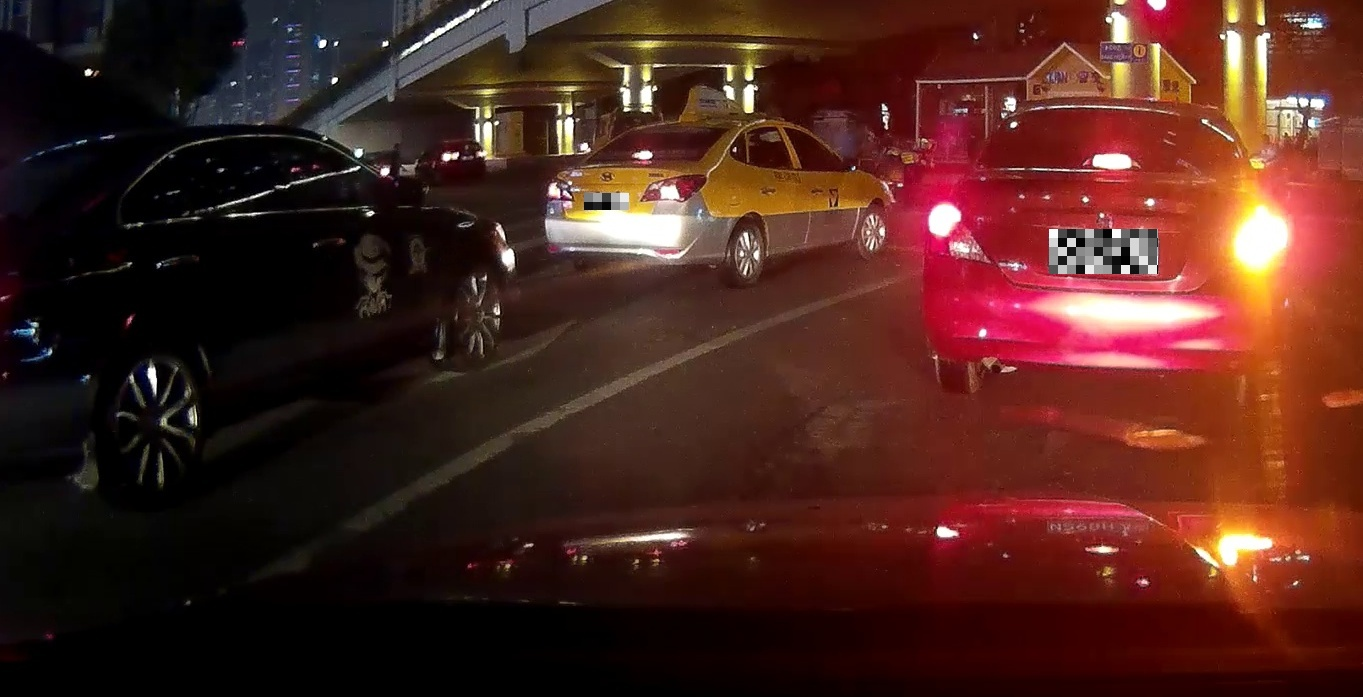L_light: (924, 205, 992, 265), (546, 176, 574, 202)
R_light: (1222, 215, 1275, 267), (638, 175, 708, 203)
T_light: (1080, 155, 1141, 170), (630, 150, 653, 159)
night-brake: (542, 116, 736, 286)
night-right: (917, 96, 1278, 402)
plate_1: (584, 193, 629, 210)
plate_2: (1049, 229, 1158, 274)
